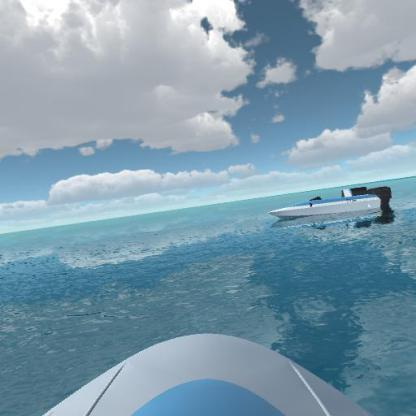usv1: (264, 184, 397, 233)
